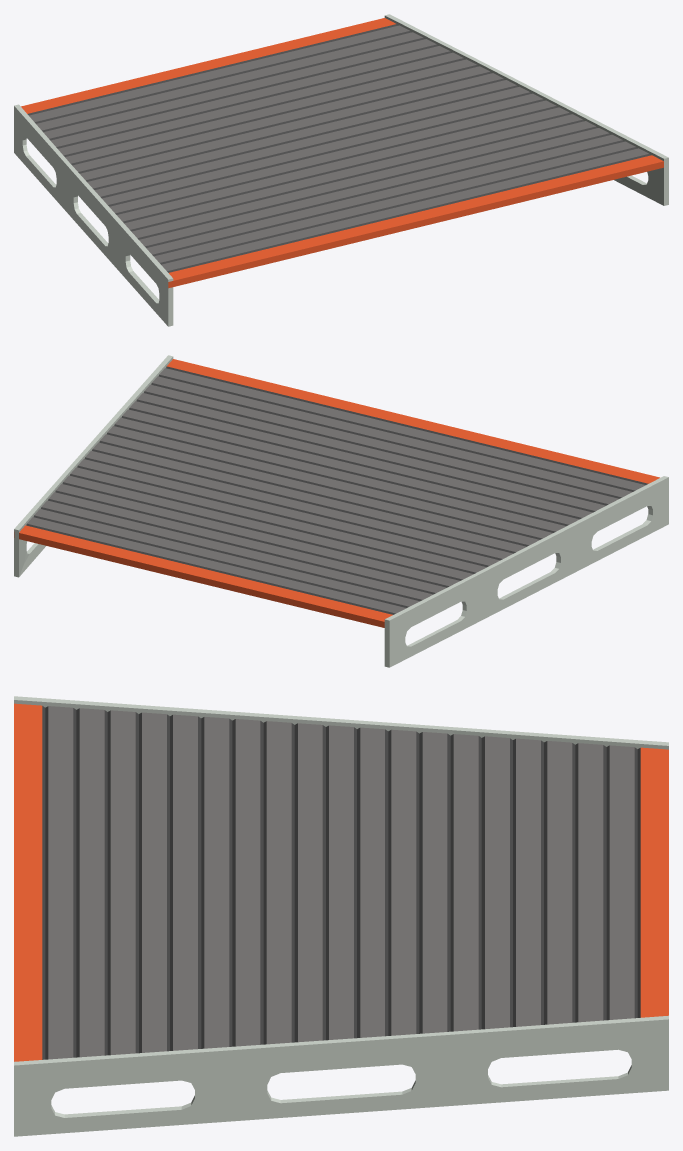
Rendered from Dock_DoorAdapter_01.glb.
The picture shows the model from 3 angles, top to bottom: view 1: azimuth 30°, elevation 25°; view 2: azimuth 150°, elevation 25°; view 3: azimuth 270°, elevation 25°; orthographic projection. The views are drawn at different scales.
Visible parts, largest first — view 1: Dock_DoorAdapter_01; view 2: Dock_DoorAdapter_01; view 3: Dock_DoorAdapter_01.
Part boxes in pixels (bbox=[...]): Dock_DoorAdapter_01: bbox=[14, 14, 668, 326]; Dock_DoorAdapter_01: bbox=[14, 355, 668, 667]; Dock_DoorAdapter_01: bbox=[14, 696, 668, 1136].
Size of what is drawn, in the model's own units: 4 by 0.3614 by 3.
Materials: 1 (1 with a texture image).
